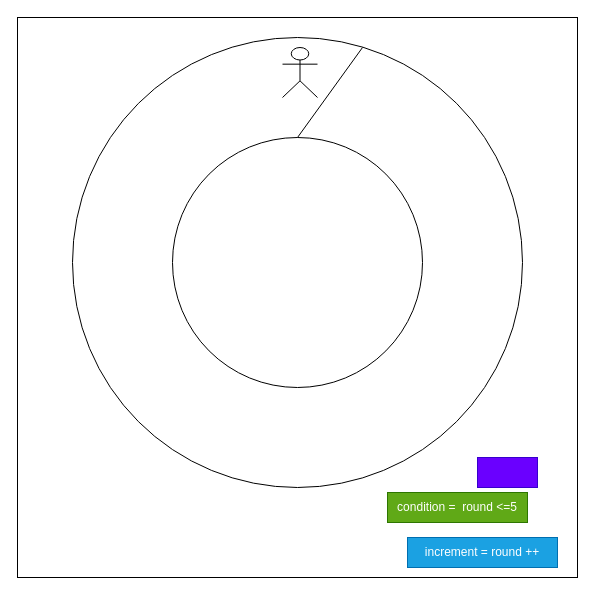
This 595x595 diagram has some shape labels left out. The shapes that lost their labels are listed below. From the top down, each one's centre as x and y in pixels, then its label:
the point at 300,72: Actor
the point at 507,472: round = 6
